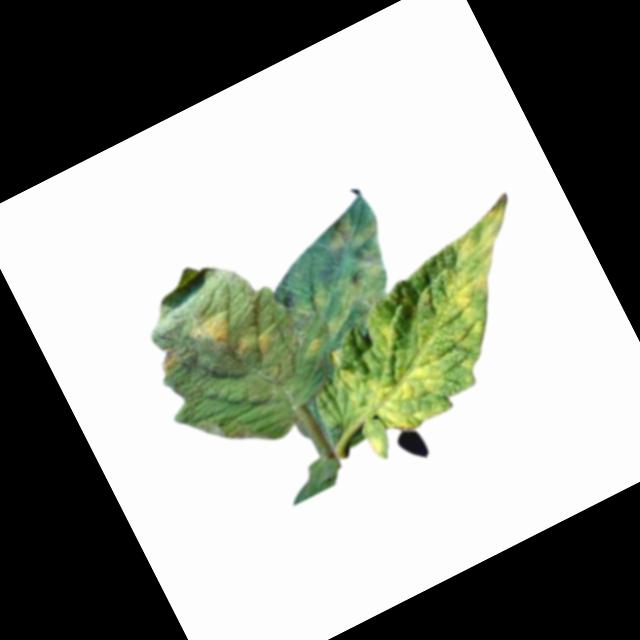Leaf_Mold: (390, 192, 576, 392), (256, 203, 419, 362), (320, 301, 466, 448), (186, 305, 241, 357), (232, 325, 281, 368), (152, 345, 185, 375)
